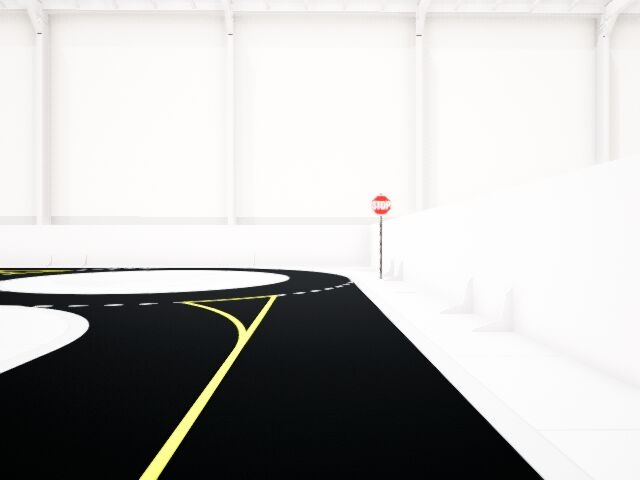stopsign: (368, 191, 394, 218)
